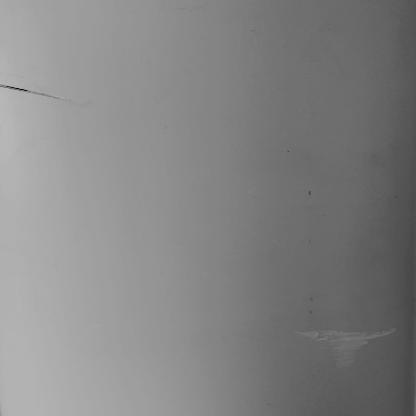sunshang: (298, 324, 403, 369), (1, 81, 78, 102)
